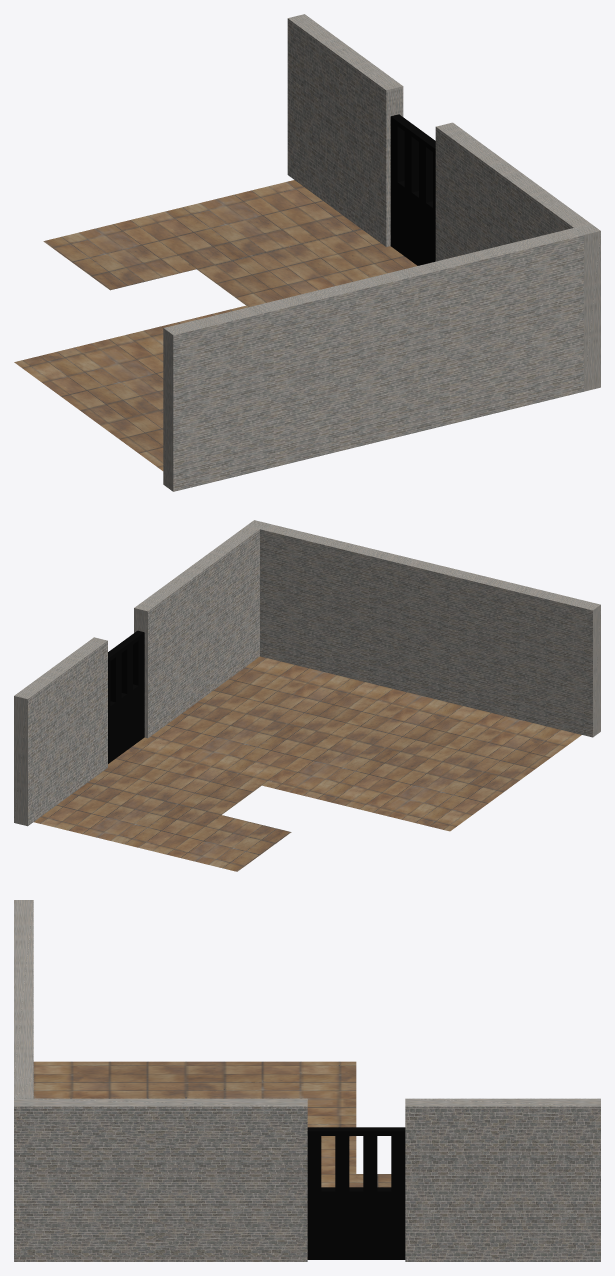
File: PolacPared.glb
3 renders of one model, top to bottom at view 1: azimuth 30°, elevation 25°; view 2: azimuth 150°, elevation 25°; view 3: azimuth 270°, elevation 25°, orthographic. The views are drawn at different scales.
Visible parts, largest first — view 1: Plane.003, Plane.008, Plane.001, Plane, Plane.002; view 2: Plane.008, Plane.003, Plane, Plane.001, Plane.002; view 3: Plane, Plane.001, Plane.008, Plane.002, Plane.003.
Boxes of the visible parts, left/top/right/bottom form: Plane.003: left=163, top=228, right=583, bottom=491; Plane.008: left=14, top=180, right=417, bottom=470; Plane.001: left=287, top=14, right=403, bottom=246; Plane: left=435, top=122, right=600, bottom=391; Plane.002: left=390, top=114, right=435, bottom=265; Plane.008: left=34, top=656, right=581, bottom=871; Plane.003: left=260, top=523, right=600, bottom=737; Plane: left=134, top=520, right=267, bottom=738; Plane.001: left=14, top=637, right=107, bottom=826; Plane.002: left=108, top=630, right=144, bottom=763; Plane: left=14, top=1098, right=307, bottom=1261; Plane.001: left=405, top=1098, right=600, bottom=1261; Plane.008: left=33, top=1061, right=391, bottom=1187; Plane.002: left=307, top=1127, right=405, bottom=1259; Plane.003: left=14, top=900, right=33, bottom=1098.
Size of the model in its own units: 5 by 1.75 by 6.
Materials: 3 (2 with a texture image).
